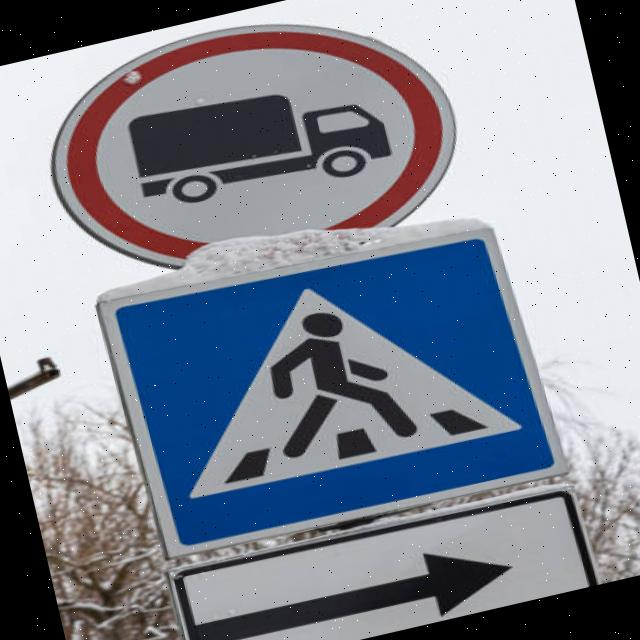crosswalk: (60, 193, 595, 583)
do_not_enter: (23, 0, 486, 307)
